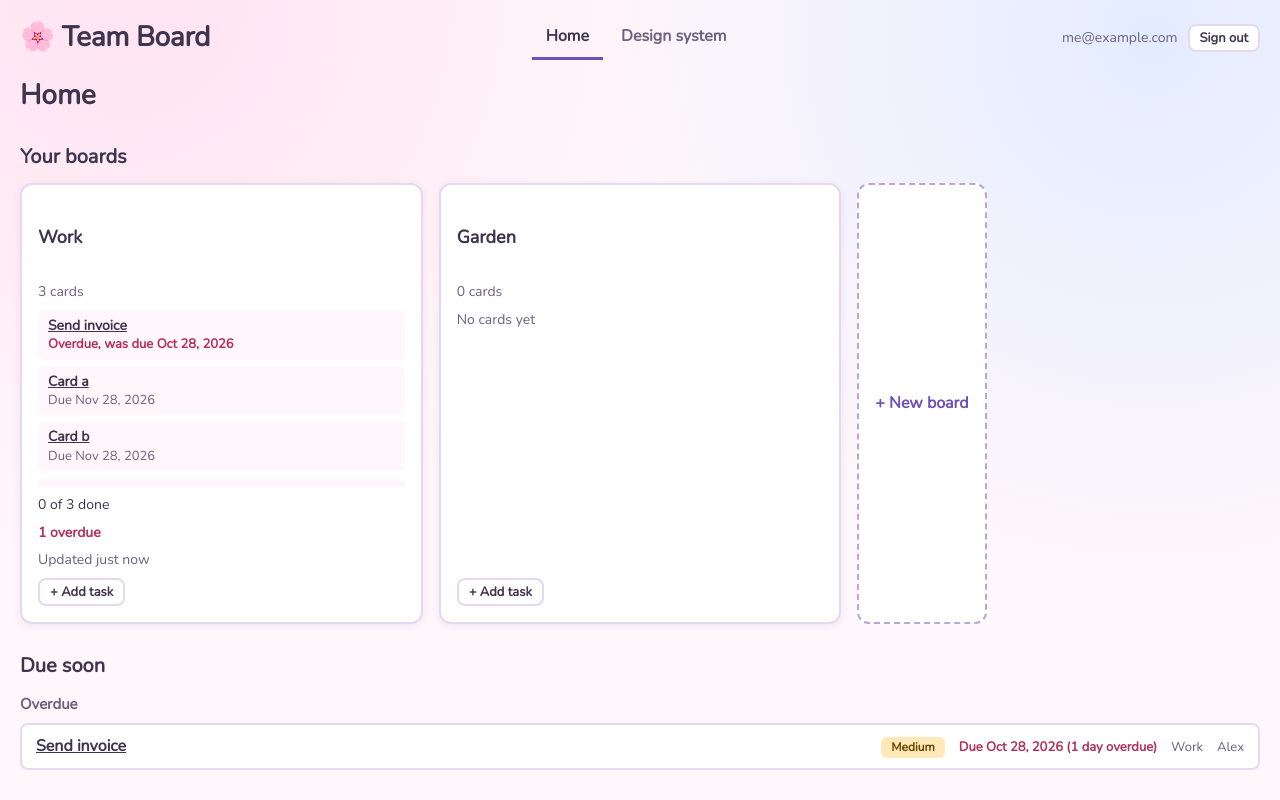
Test case: moving around › opens the card behind a "due soon" link, then drops the card from the address
Click the link "Send invoice" in the row of "Medium" at point(81, 746), box left=36, top=735, right=126, bottom=757
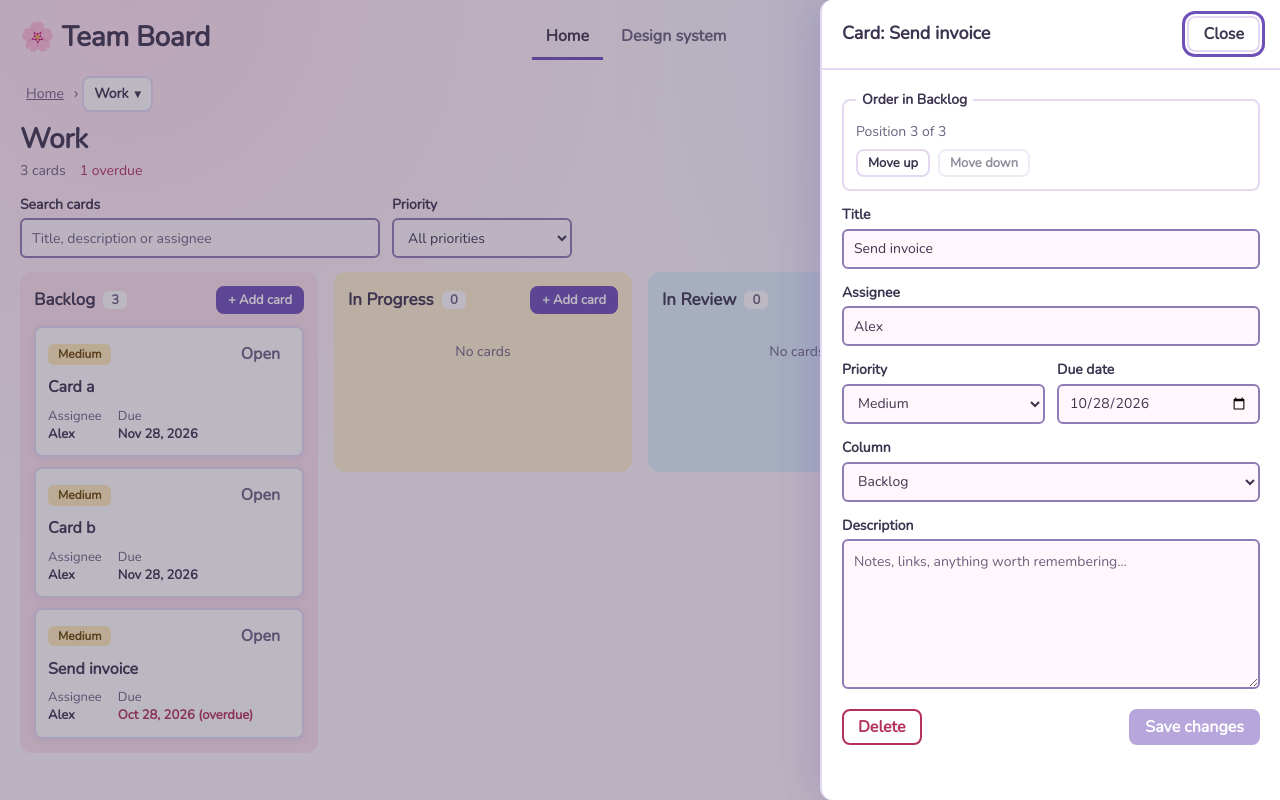
Now the dialog "Card: Send invoice" is shown, box left=820, top=0, right=1279, bottom=799
